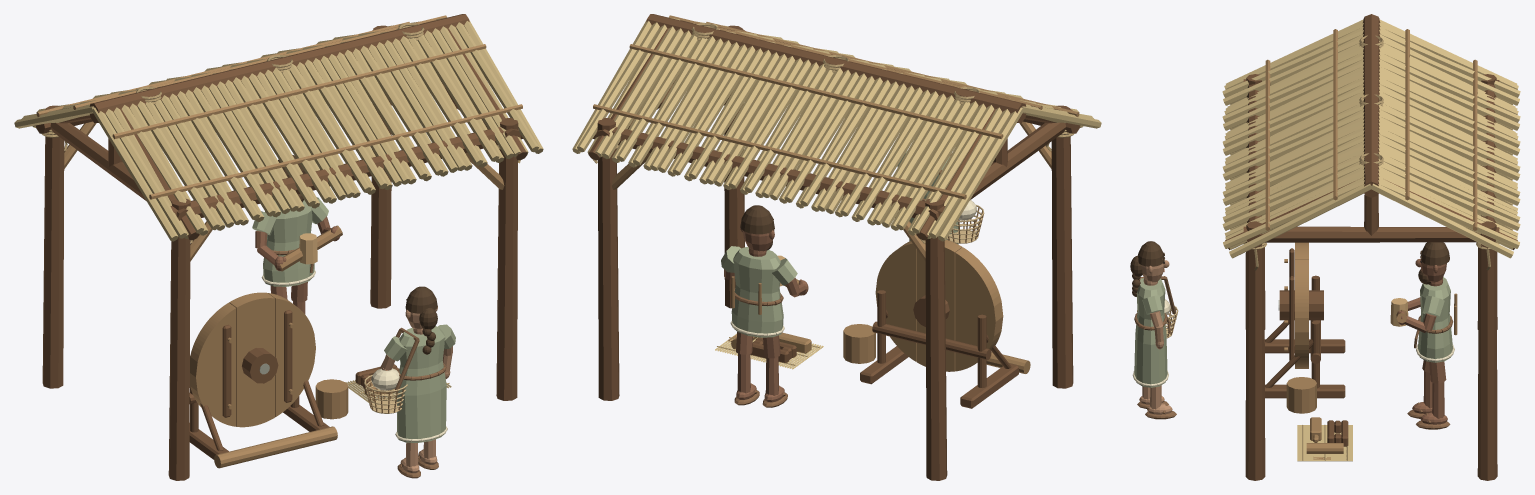
3 views of the same model, side by side, from view 1: azimuth 30°, elevation 25°; view 2: azimuth 150°, elevation 25°; view 3: azimuth 270°, elevation 25° (orthographic). The views are drawn at different scales.
Parts seen in each view (by area): view 1: BA-0093 batched; view 2: BA-0093 batched; view 3: BA-0093 batched.
Part boxes in pixels (<box>): BA-0093 batched: <box>14,14,543,480</box>; BA-0093 batched: <box>572,14,1101,480</box>; BA-0093 batched: <box>1130,14,1520,480</box>.
Size of the model in its own units: 3.43 by 2.91 by 3.36.
